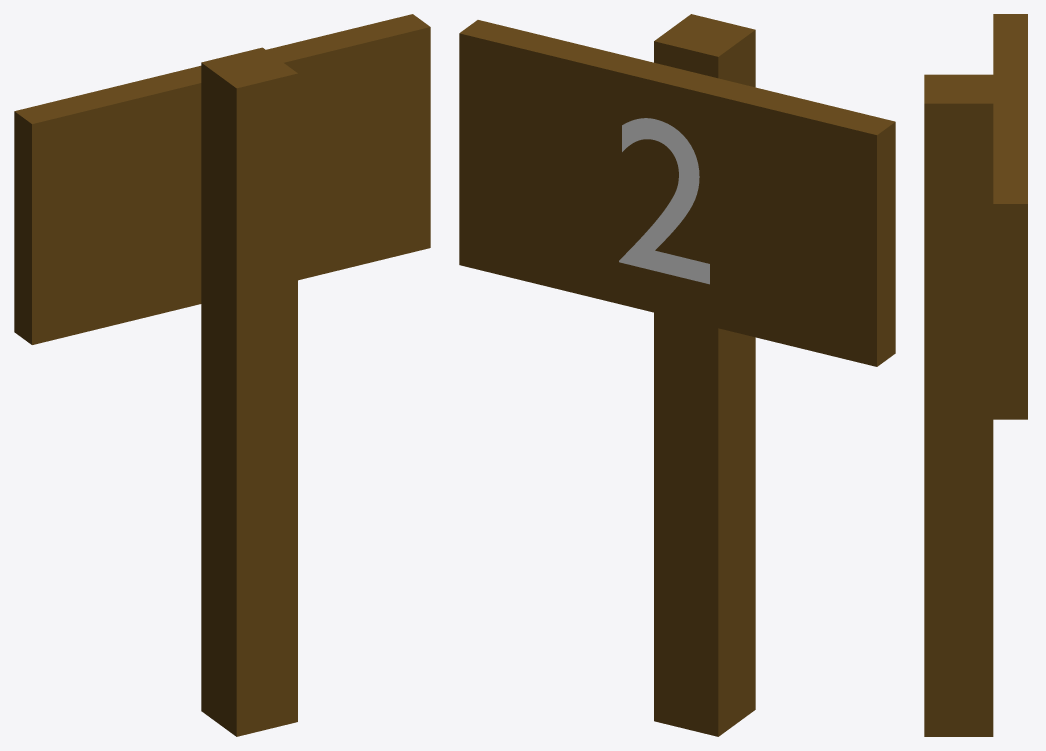
Rendered from Planknomor2.fbx.
3 renders of one model, left to right at view 1: azimuth 30°, elevation 25°; view 2: azimuth 150°, elevation 25°; view 3: azimuth 270°, elevation 25°, orthographic. The views are drawn at different scales.
Parts seen in each view (by area): view 1: Cube.002; view 2: Cube.002, Text.001; view 3: Cube.002.
Part boxes in pixels (left/top/right/bottom): Cube.002: left=14, top=14, right=430, bottom=736; Cube.002: left=459, top=14, right=895, bottom=736; Text.001: left=619, top=118, right=709, bottom=284; Cube.002: left=924, top=14, right=1027, bottom=736.
Bounding box in the file's own units: 199 × 309 × 47.66.
